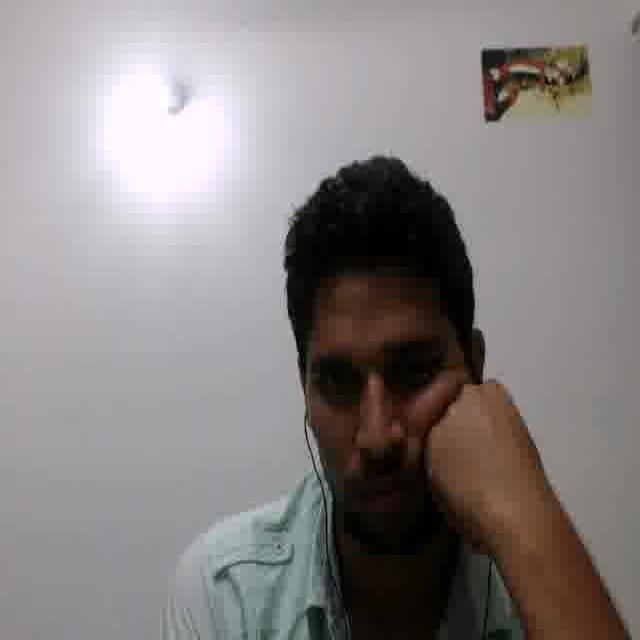Boredom: (298, 274, 462, 546)
